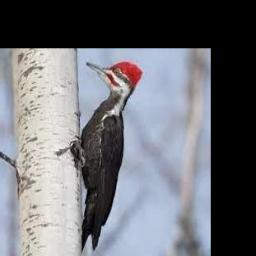Woodpecker: (73, 62, 142, 253)
